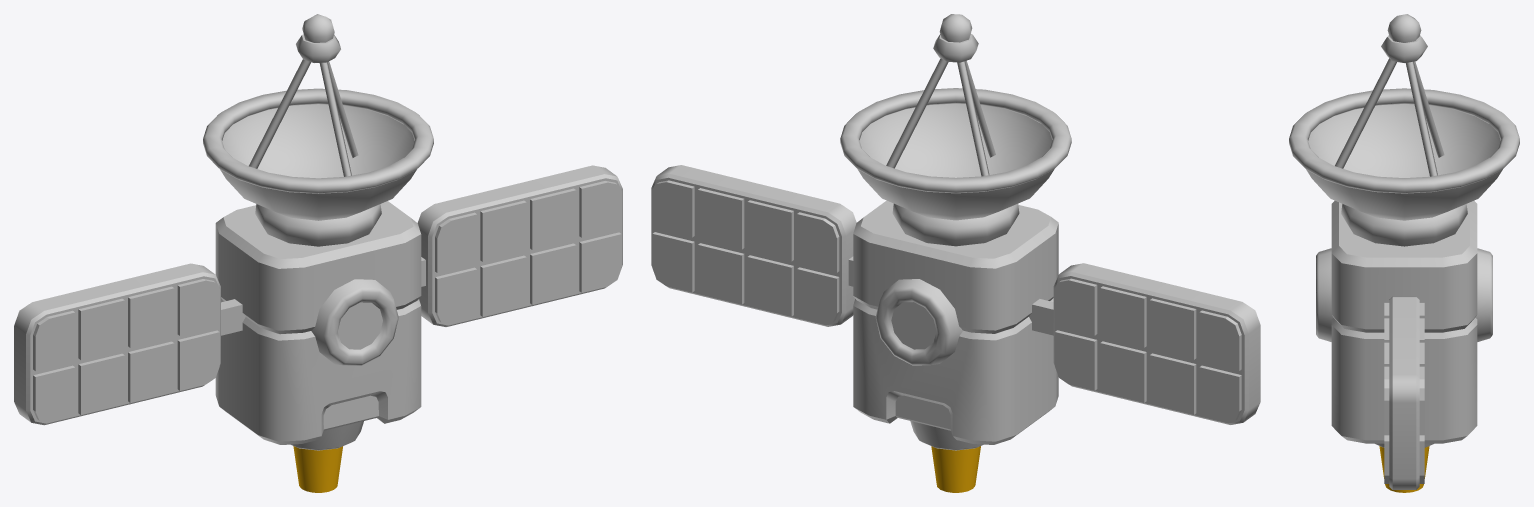
File: satallite_001.fbx
The picture shows the model from 3 angles, left to right: view 1: azimuth 30°, elevation 25°; view 2: azimuth 150°, elevation 25°; view 3: azimuth 270°, elevation 25°; orthographic projection.
Visible parts, largest first — view 1: satallite_001; view 2: satallite_001; view 3: satallite_001.
Part boxes in pixels (<box>): satallite_001: <box>14,14,622,492</box>; satallite_001: <box>651,14,1260,492</box>; satallite_001: <box>1289,14,1519,492</box>.
Size of the model in its own units: 1265 by 424 by 951.
